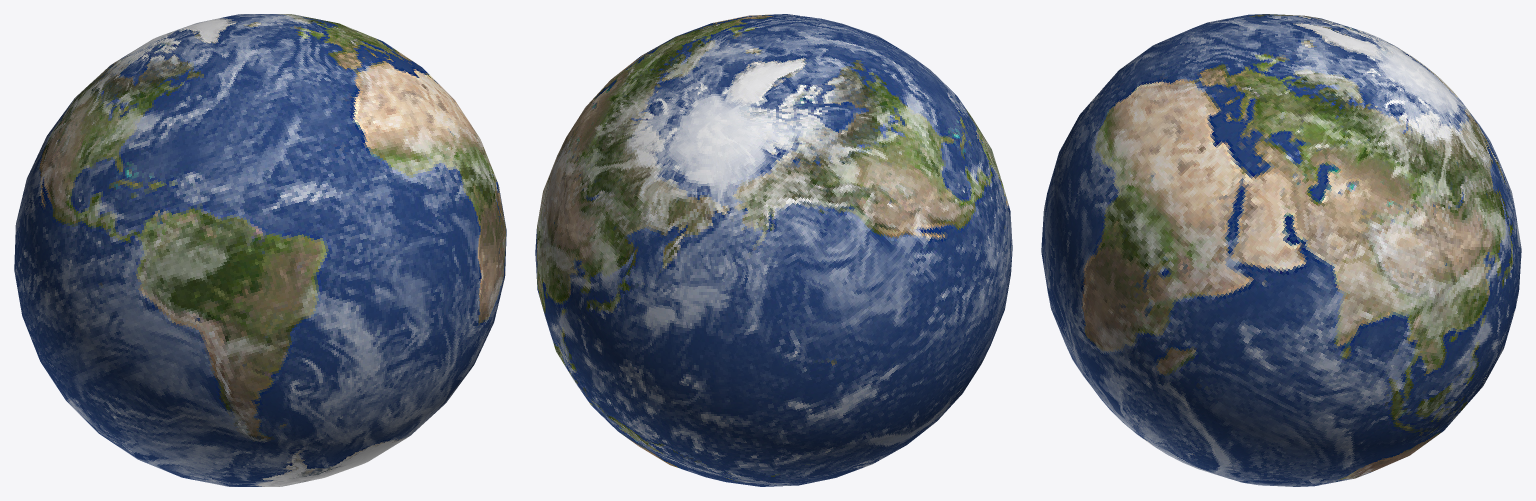
File: earth.glb
3 renders of one model, left to right at view 1: azimuth 30°, elevation 25°; view 2: azimuth 150°, elevation 25°; view 3: azimuth 270°, elevation 25°, orthographic. The views are drawn at different scales.
Parts seen in each view (by area): view 1: earth; view 2: earth; view 3: earth.
Boxes of the visible parts, x1=… form: earth: x1=14, y1=14, x2=506, y2=486; earth: x1=535, y1=14, x2=1012, y2=486; earth: x1=1041, y1=14, x2=1521, y2=486.
Size of the model in its own units: 12.77 by 12.36 by 12.6.
1 material, 1 textured.
